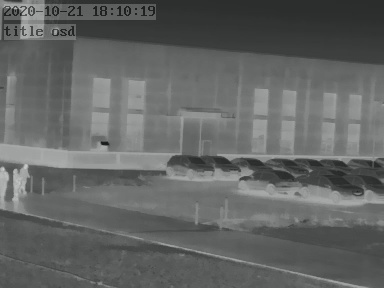person: (10, 163, 20, 203), (19, 163, 31, 194), (1, 169, 11, 201)
vehicle: (299, 171, 364, 203), (240, 168, 305, 193), (165, 153, 212, 178), (351, 173, 384, 203), (204, 154, 243, 177), (232, 155, 270, 172), (262, 155, 302, 171), (347, 156, 378, 170), (296, 156, 324, 169), (317, 157, 346, 169)
